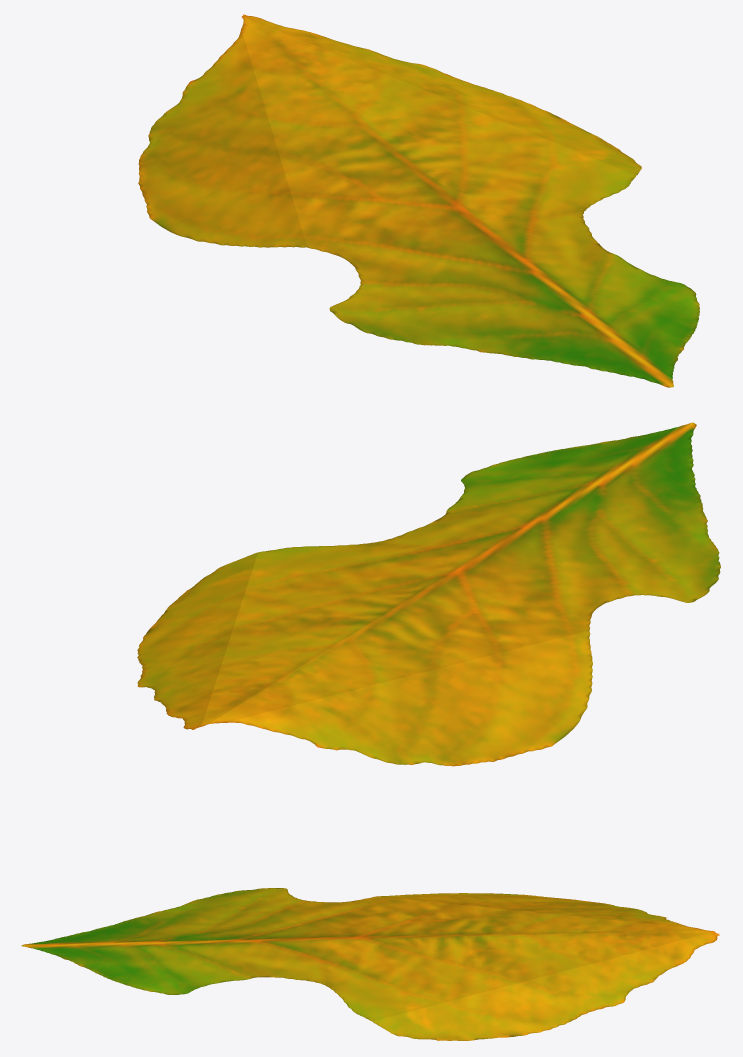
The model's file is Row Root Leaf A.fbx.
3 views of the same model, one above another, from view 1: azimuth 30°, elevation 25°; view 2: azimuth 150°, elevation 25°; view 3: azimuth 270°, elevation 25° (orthographic). The views are drawn at different scales.
Visible parts, largest first — view 1: Row Root Leaf A; view 2: Row Root Leaf A; view 3: Row Root Leaf A.
Part boxes in pixels (x1,y1,x2,y2): Row Root Leaf A: (138, 14, 699, 387); Row Root Leaf A: (137, 422, 720, 766); Row Root Leaf A: (21, 888, 719, 1040).
Size of the model in its own units: 45.5 by 7.19 by 83.88.
